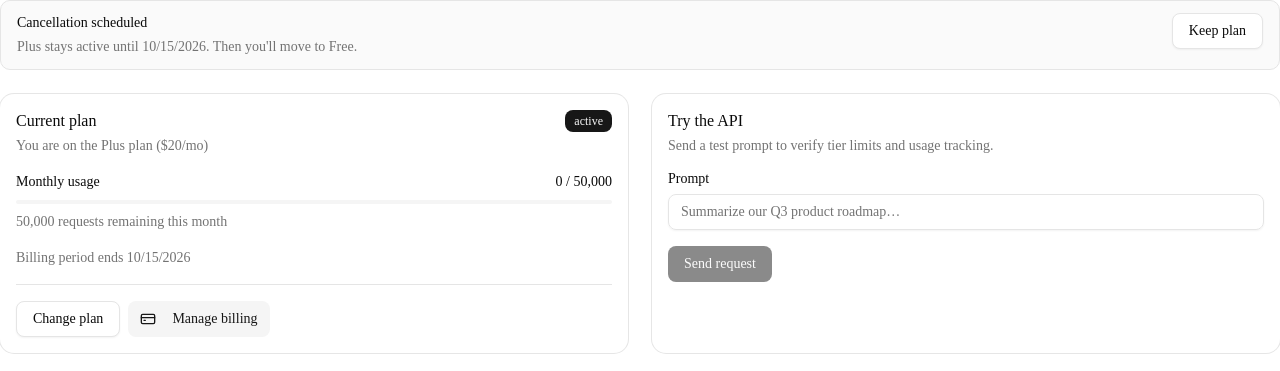
Test: DashboardClient › lets the customer keep the plan after scheduling cancellation
The width and height of the screenshot is (1280, 371).
Step 1. Click the button "Keep plan" → (1217, 31), box [1172,13,1263,49]
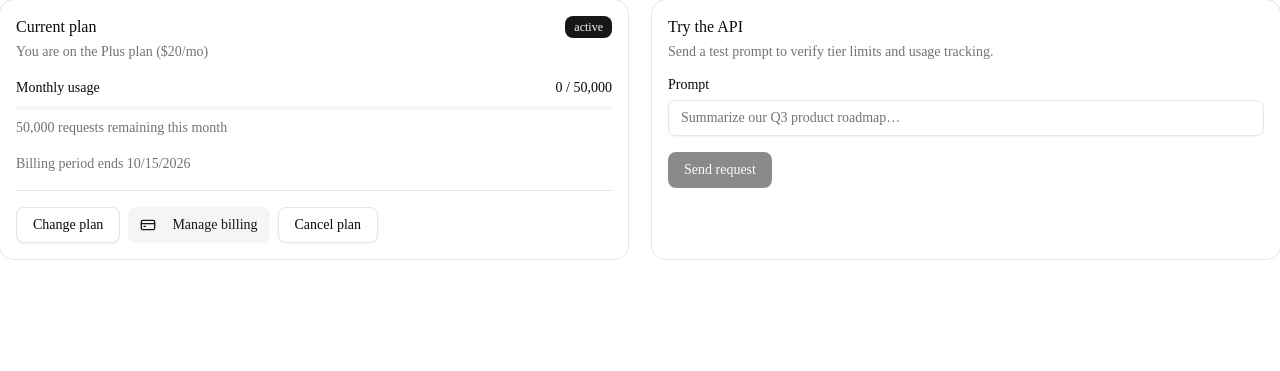
Now the button "Cancel plan" is shown, box [278,207,378,243]
